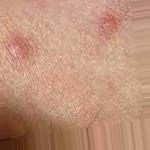Ants: (2, 32, 35, 60), (96, 12, 120, 31)
